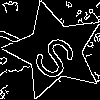S: (29, 26, 86, 84)
